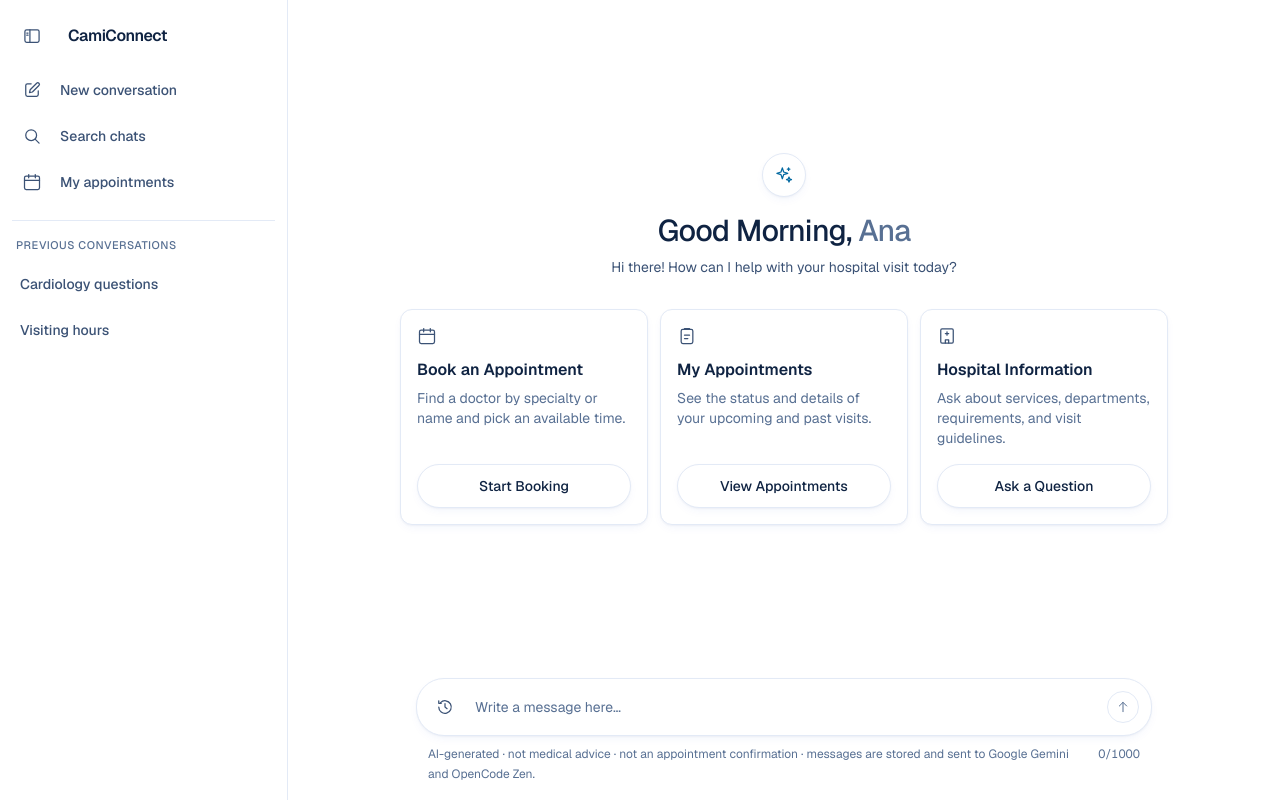
Test: ChatShell sidebar › filters previous conversations by title
Step 1. Click the button "Search chats" → (144, 136), box [8, 114, 279, 158]
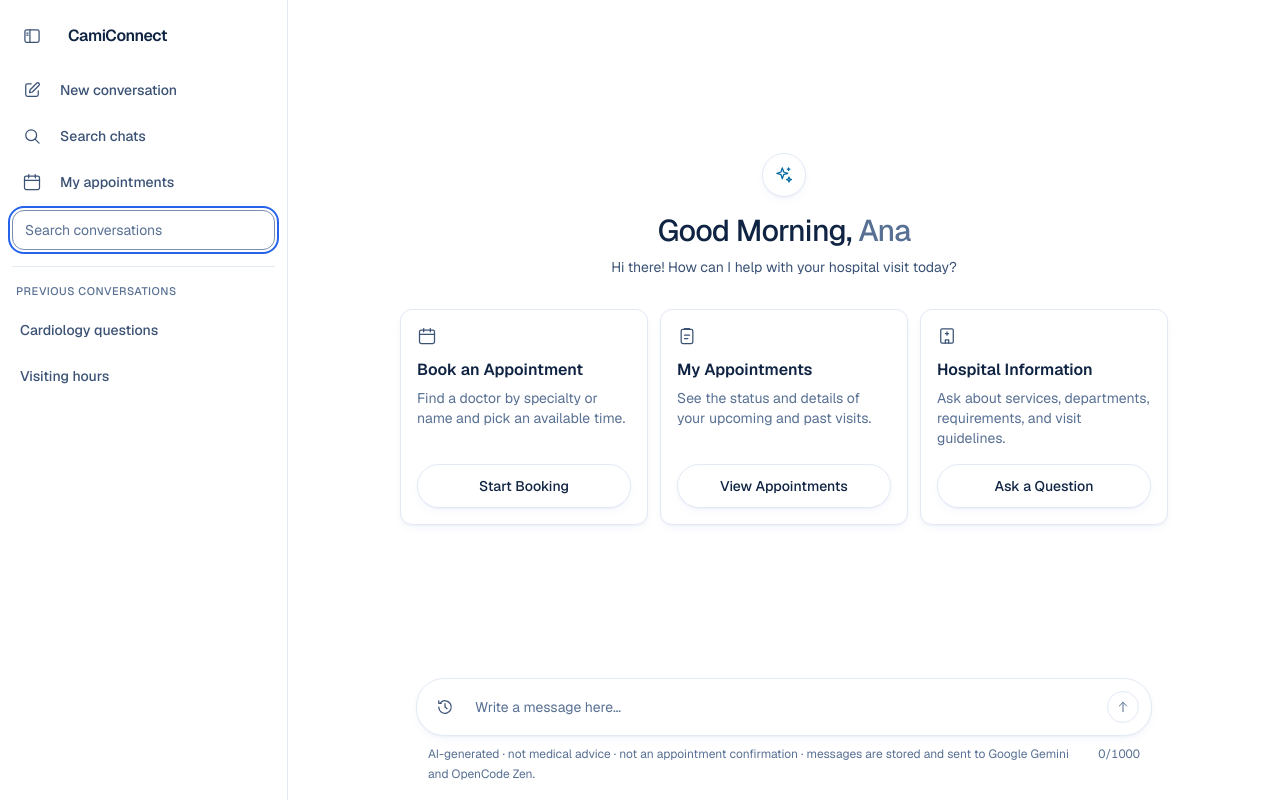
Step 2. Type "visit" into the search field labelled "Search conversations" → (144, 230), box [12, 210, 275, 250]
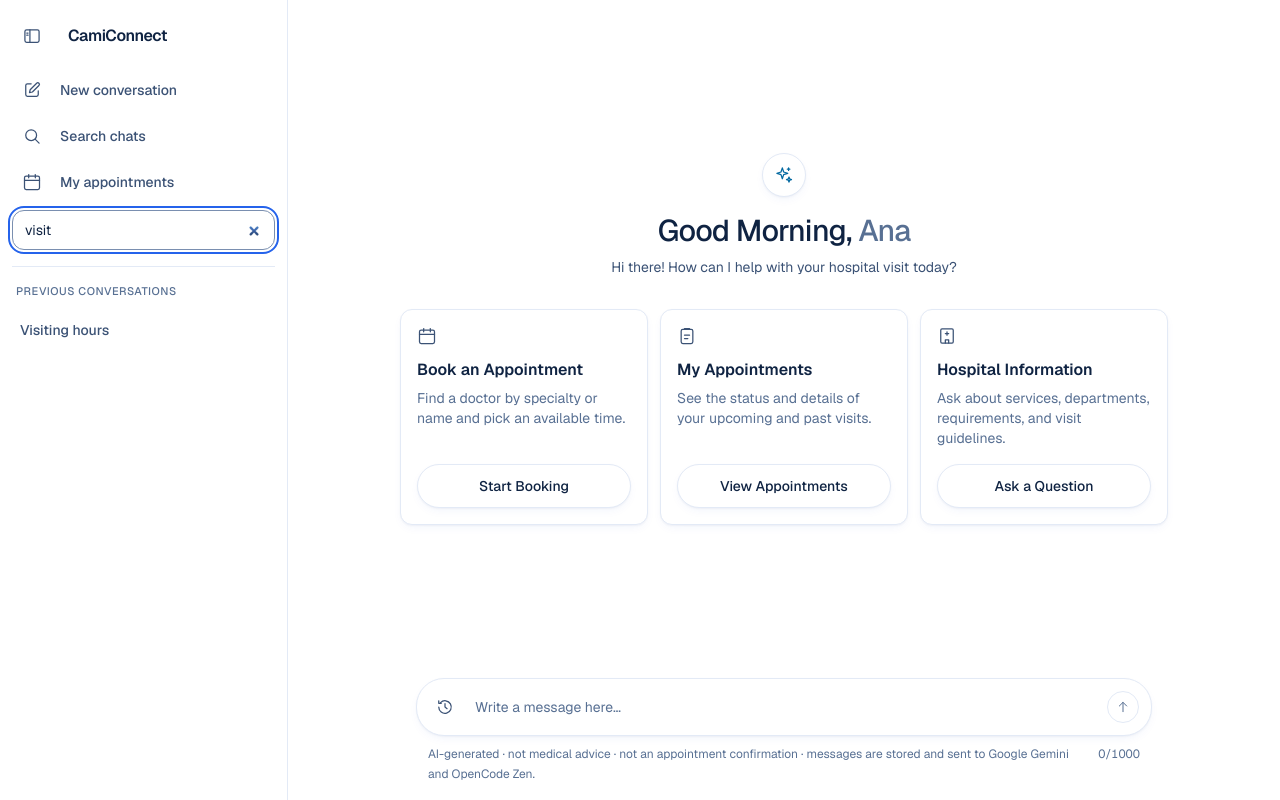
Expected: the text "Visiting hours" is shown, [20, 320, 109, 340]
Expected: the link "Cardiology questions" is gone
